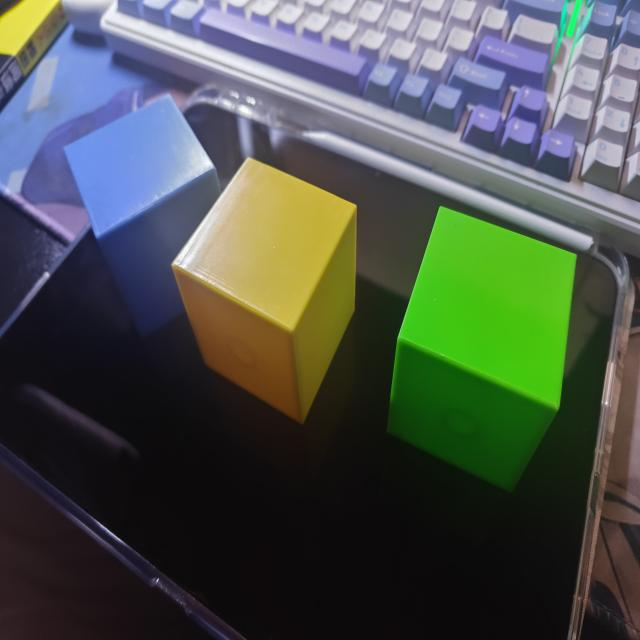blue: (62, 96, 223, 345)
green: (388, 207, 579, 496)
yellow: (170, 157, 359, 427)
